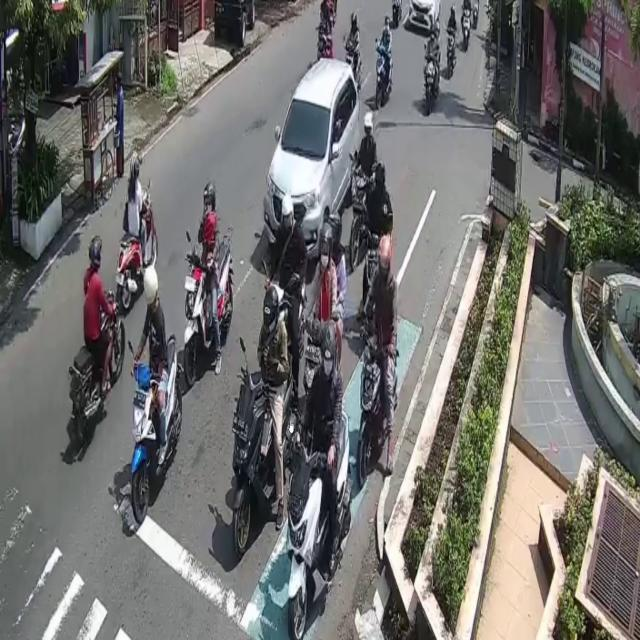car: (264, 60, 360, 248)
motorbike: (289, 411, 354, 640), (233, 360, 295, 559), (130, 332, 182, 527), (70, 288, 125, 444), (181, 240, 231, 385), (359, 343, 399, 489), (117, 191, 158, 315), (424, 53, 436, 119)
